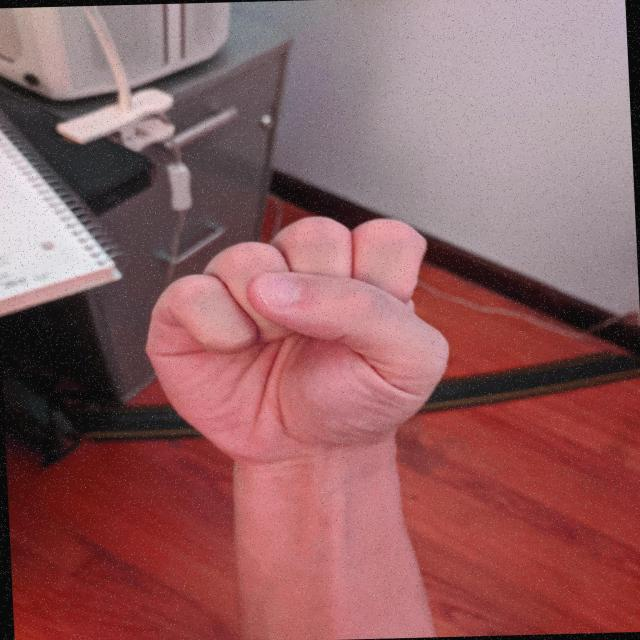S: (131, 206, 465, 472)
